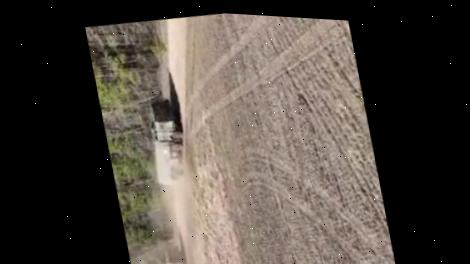rszo: (141, 93, 193, 188), (161, 244, 189, 264)
